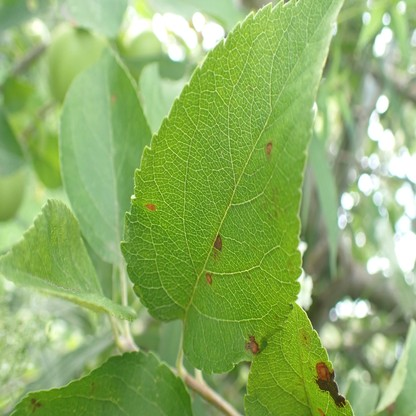frogeye_leaf_spot: (315, 361, 346, 406), (244, 335, 261, 355), (213, 232, 222, 249), (145, 203, 156, 211), (266, 142, 273, 154), (205, 271, 211, 284), (318, 408, 325, 415)
scab: (261, 186, 281, 219), (299, 330, 310, 346)
